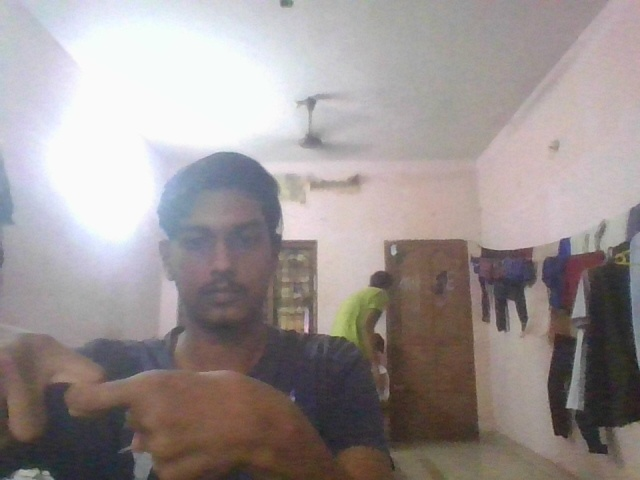friend: (1, 324, 309, 480)
